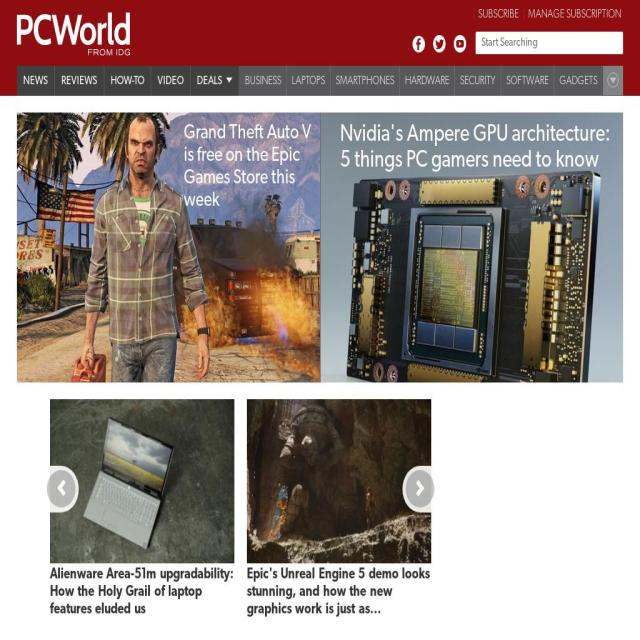button: (240, 383, 438, 619), (44, 383, 240, 619), (438, 383, 634, 619), (340, 122, 612, 173), (184, 121, 318, 212), (0, 383, 44, 619), (17, 12, 147, 58), (330, 66, 400, 96), (402, 466, 438, 512), (400, 66, 454, 96), (501, 66, 554, 96), (44, 466, 78, 512), (190, 66, 240, 96), (55, 66, 104, 96), (554, 66, 602, 96), (634, 383, 640, 619), (105, 66, 152, 96), (240, 66, 286, 96), (455, 66, 501, 96), (287, 66, 330, 96), (151, 66, 191, 96), (17, 66, 55, 96), (412, 32, 432, 58), (433, 32, 452, 58), (453, 32, 472, 58)
field: (481, 36, 600, 49)
heading: (340, 122, 612, 173), (184, 121, 318, 212)
image: (17, 112, 320, 382), (321, 112, 624, 382), (50, 399, 234, 563), (247, 399, 431, 563), (444, 399, 628, 563), (0, 399, 38, 563), (603, 66, 623, 95)
link: (50, 565, 234, 618), (247, 565, 431, 618), (444, 565, 628, 601), (0, 565, 38, 618), (528, 8, 621, 21), (478, 8, 519, 21)
text: (0, 96, 640, 112), (606, 32, 623, 54), (197, 75, 224, 87)
